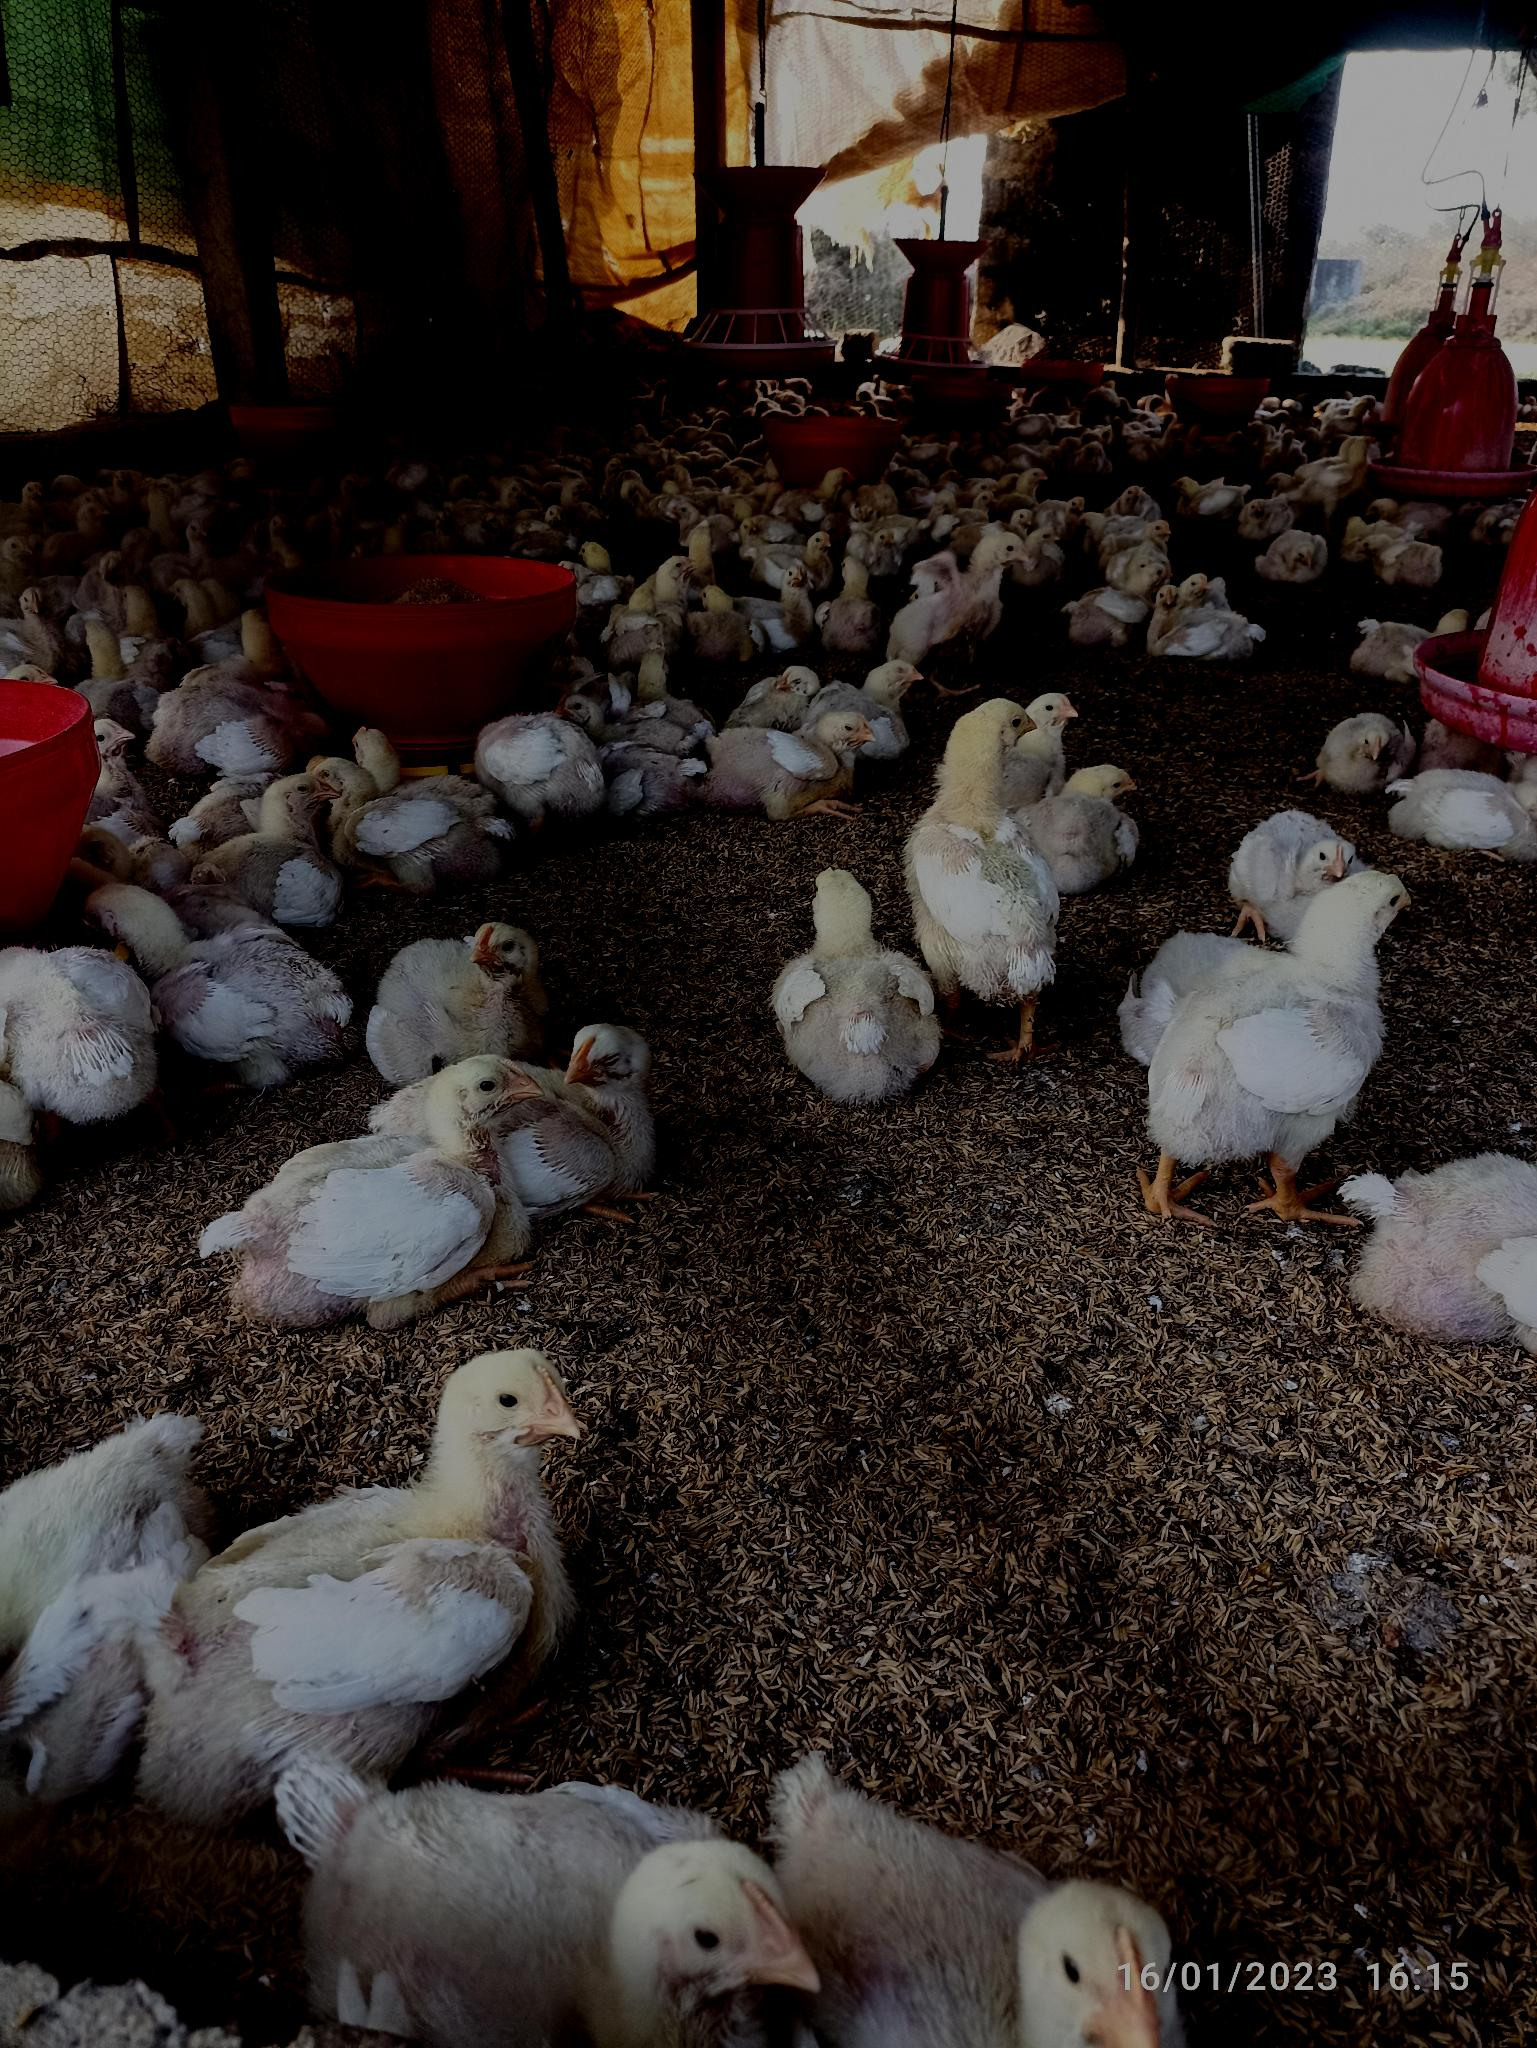Pollos: (166, 1343, 601, 1801), (1130, 863, 1421, 1159), (229, 1060, 534, 1315), (82, 881, 357, 1068), (768, 865, 946, 1093), (920, 700, 1053, 984), (313, 750, 513, 897), (363, 928, 560, 1059), (542, 1009, 665, 1194), (903, 529, 1030, 683), (701, 710, 875, 796), (478, 713, 596, 838), (1049, 754, 1143, 878), (612, 541, 709, 657), (1153, 579, 1272, 660), (1317, 717, 1406, 788), (752, 573, 815, 654), (1254, 526, 1337, 583)
